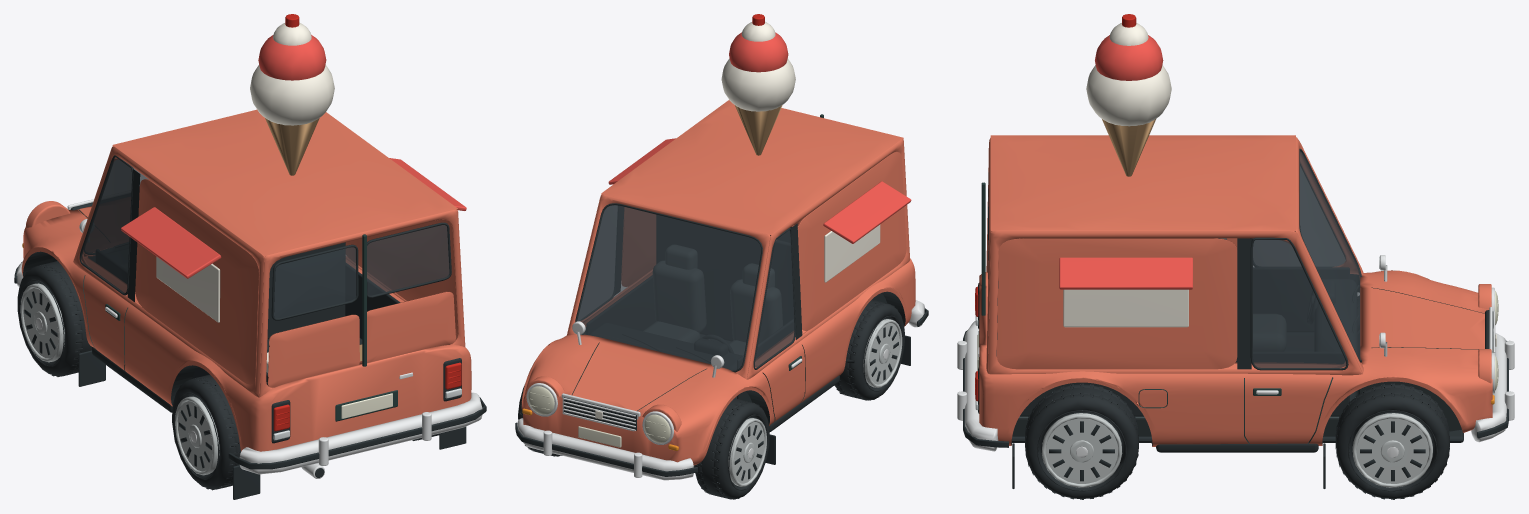
The model's file is gelato_lod1.fbx.
The picture shows the model from 3 angles, left to right: view 1: azimuth 30°, elevation 25°; view 2: azimuth 150°, elevation 25°; view 3: azimuth 270°, elevation 25°; orthographic projection. The views are drawn at different scales.
Visible parts, largest first — view 1: Body, Wheel_FL_Mesh, Wheel_RL_Mesh; view 2: Body, Wheel_FL_Mesh, Wheel_RL_Mesh; view 3: Body, Wheel_FR_Mesh, Wheel_RR_Mesh.
Part boxes in pixels (x1,y1,x2,y2): Body: [14, 14, 486, 499]; Wheel_FL_Mesh: [17, 261, 92, 376]; Wheel_RL_Mesh: [172, 374, 240, 490]; Body: [515, 14, 928, 480]; Wheel_FL_Mesh: [694, 398, 769, 499]; Wheel_RL_Mesh: [834, 300, 904, 400]; Body: [957, 14, 1514, 488]; Wheel_FR_Mesh: [1335, 383, 1449, 499]; Wheel_RR_Mesh: [1025, 383, 1138, 499].
Size of the model in its own units: 229 by 331 by 391.
